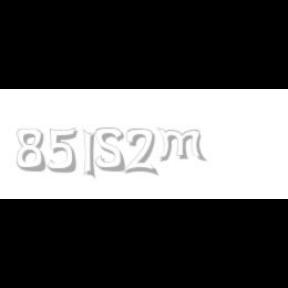2: (123, 128, 157, 176)
5: (46, 128, 78, 174)
8: (16, 128, 46, 172)
I: (84, 128, 96, 180)
S: (96, 128, 127, 172)
m: (156, 128, 208, 162)
